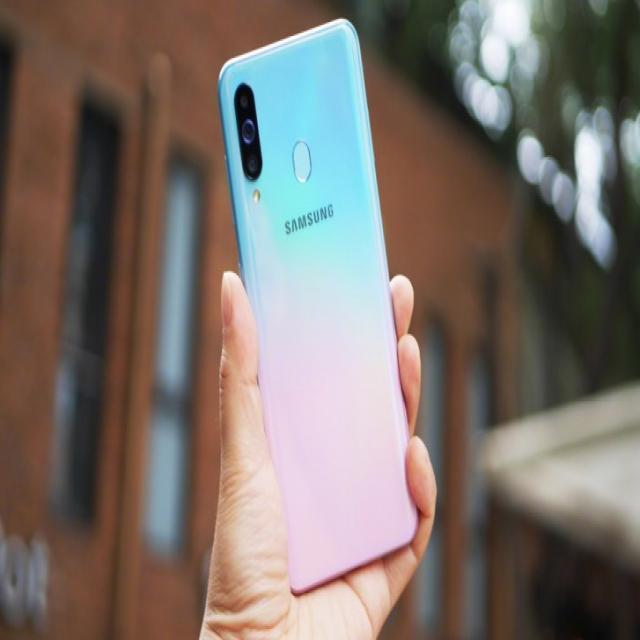lens: (235, 83, 266, 183)
phone: (213, 18, 425, 595)
